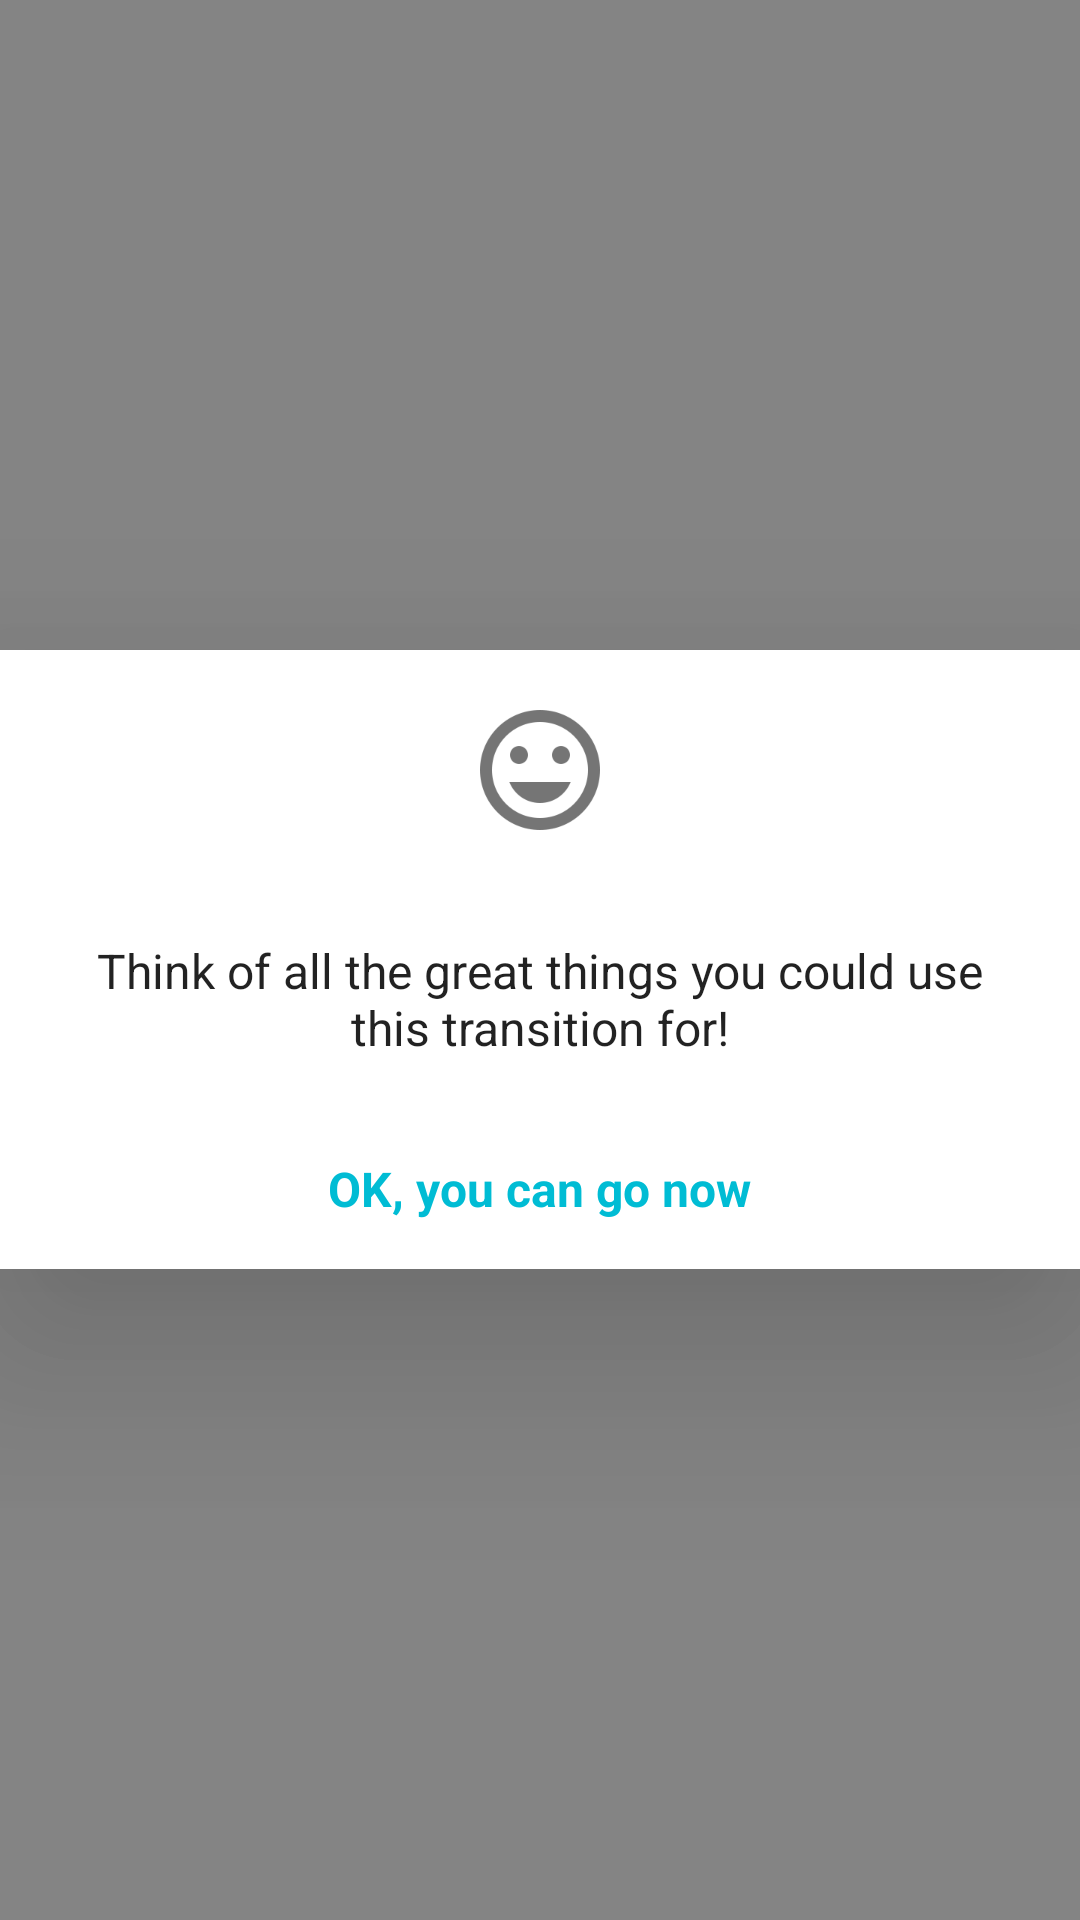

Where icons sit on this 1080w x 1920h app screen, as [left=x1, top=y1, right=x2, bottom=y2]:
Smile emotion: [left=480, top=710, right=600, bottom=830]
